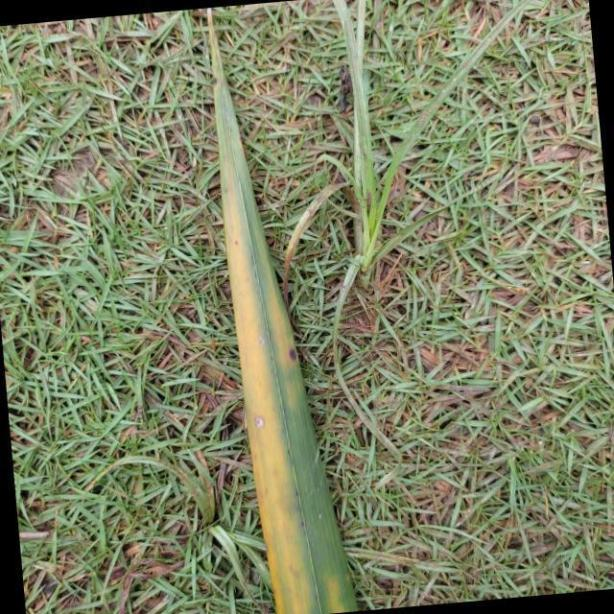Megnesium: (196, 3, 359, 614)
